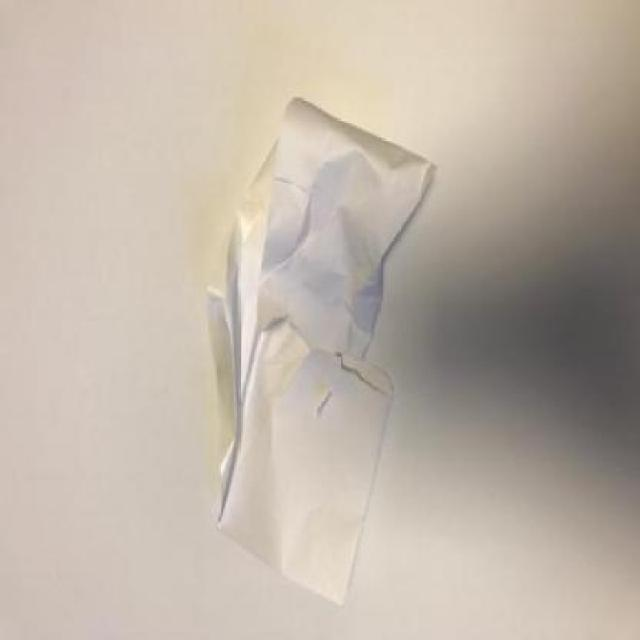PAPER: (204, 95, 436, 602)
